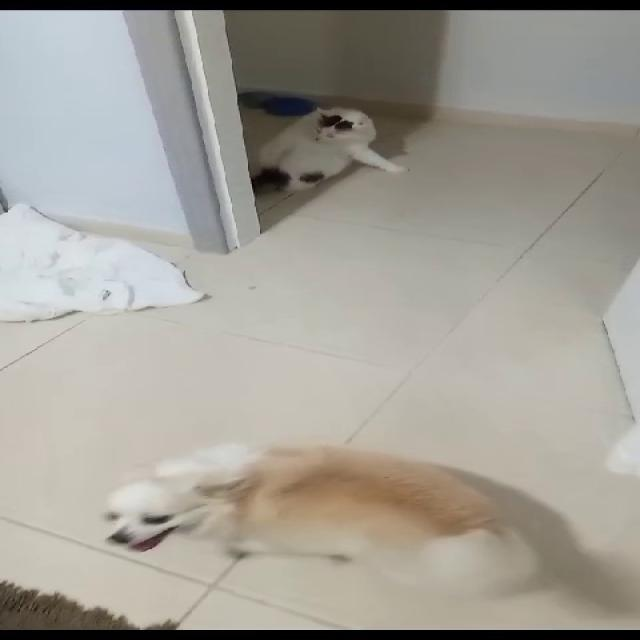Simba: (258, 76, 456, 218)
Theo: (101, 440, 585, 613)
